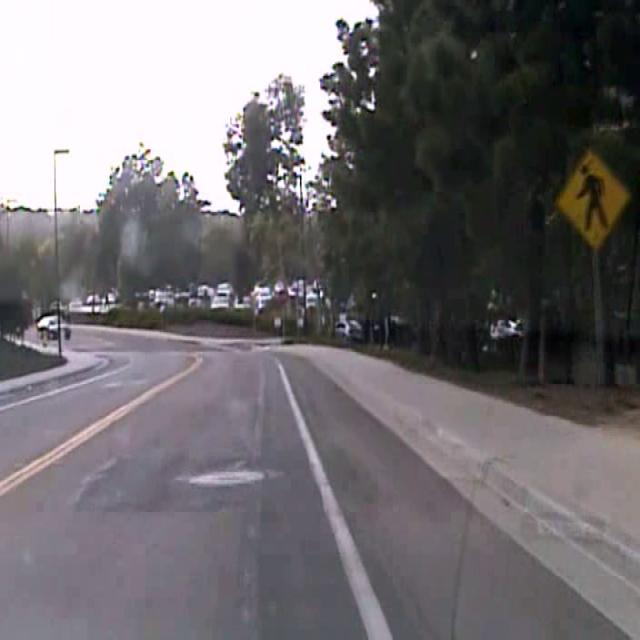pedestrianCrossing: (555, 147, 631, 250)
